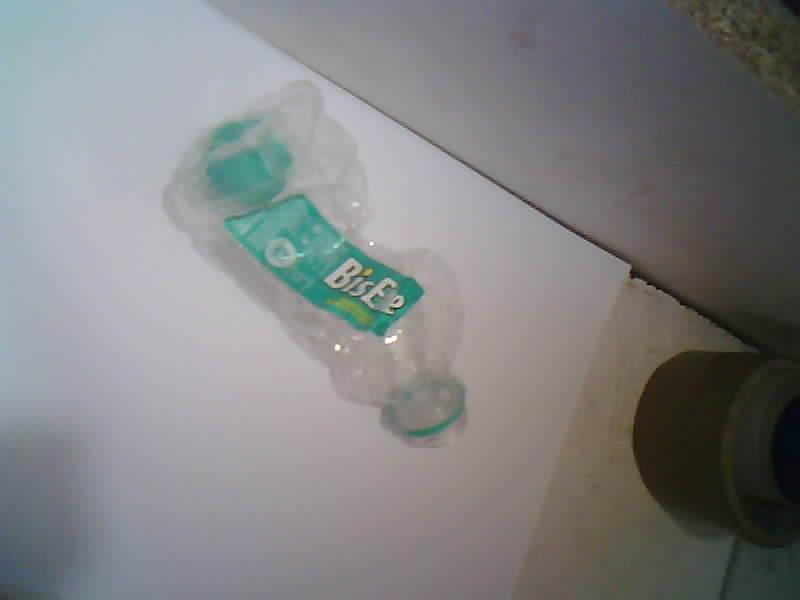non-biodegradable: (166, 81, 466, 446)
